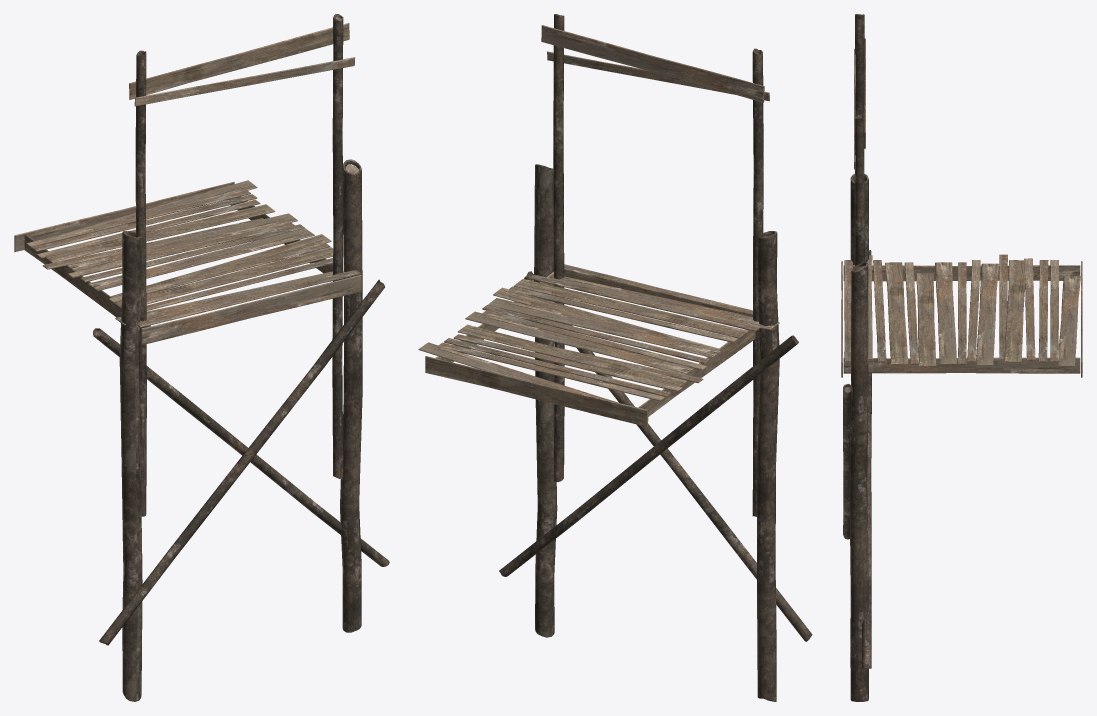
Rendered from SM_Gangway_06.fbx.
3 views of the same model, side by side, from view 1: azimuth 30°, elevation 25°; view 2: azimuth 150°, elevation 25°; view 3: azimuth 270°, elevation 25° (orthographic). The views are drawn at different scales.
Parts seen in each view (by area): view 1: SM_Gangway_06_LOD0; view 2: SM_Gangway_06_LOD0; view 3: SM_Gangway_06_LOD0.
Boxes of the visible parts, left/top/right/bottom form: SM_Gangway_06_LOD0: left=14, top=14, right=389, bottom=701; SM_Gangway_06_LOD0: left=418, top=14, right=812, bottom=701; SM_Gangway_06_LOD0: left=841, top=14, right=1082, bottom=701.
Bounding box in the file's own units: 542 × 403 × 1119.
Materials: 3 (3 with a texture image).
